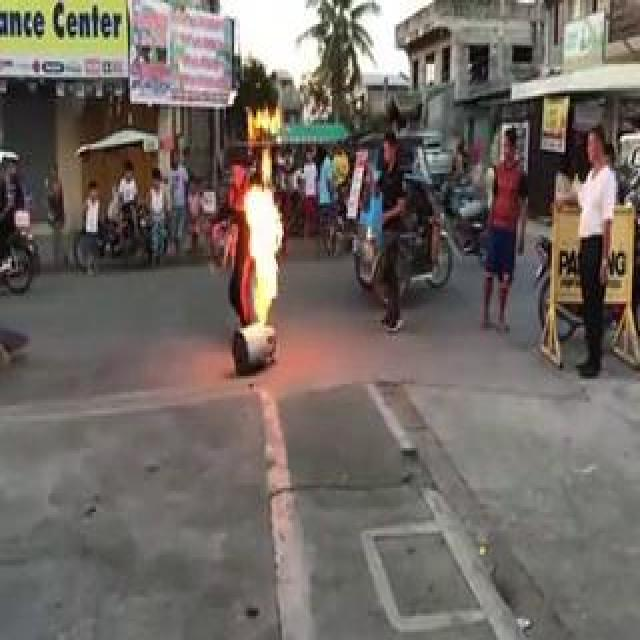Fire: (242, 110, 290, 326)
